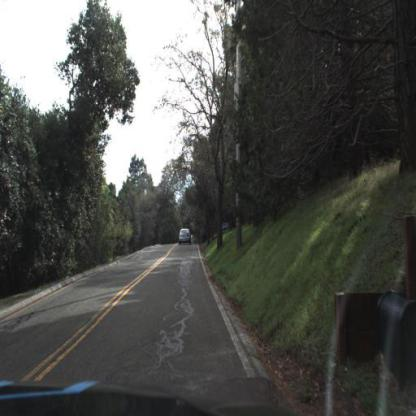car: (179, 226, 195, 246)
